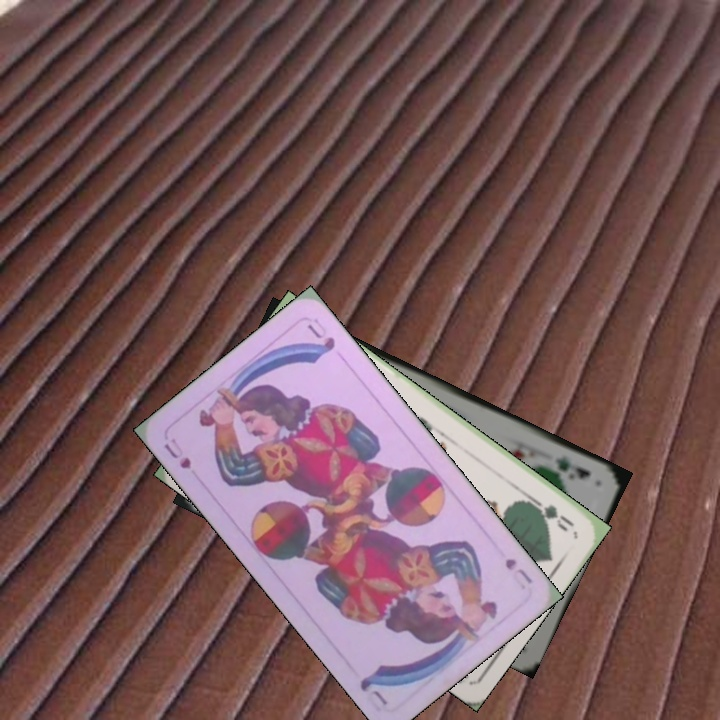GK: (551, 451, 593, 483)
GO: (525, 493, 577, 534)
SU: (500, 554, 535, 593), (159, 434, 194, 472)
